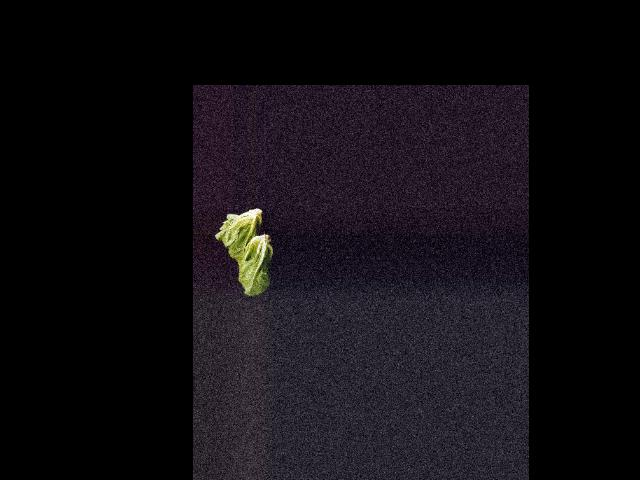lettuce: (215, 208, 269, 269)
